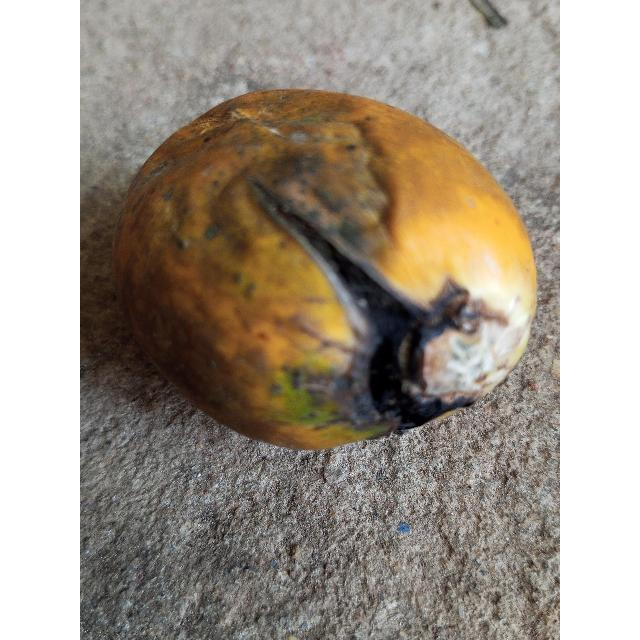damaged: (112, 89, 538, 454)
